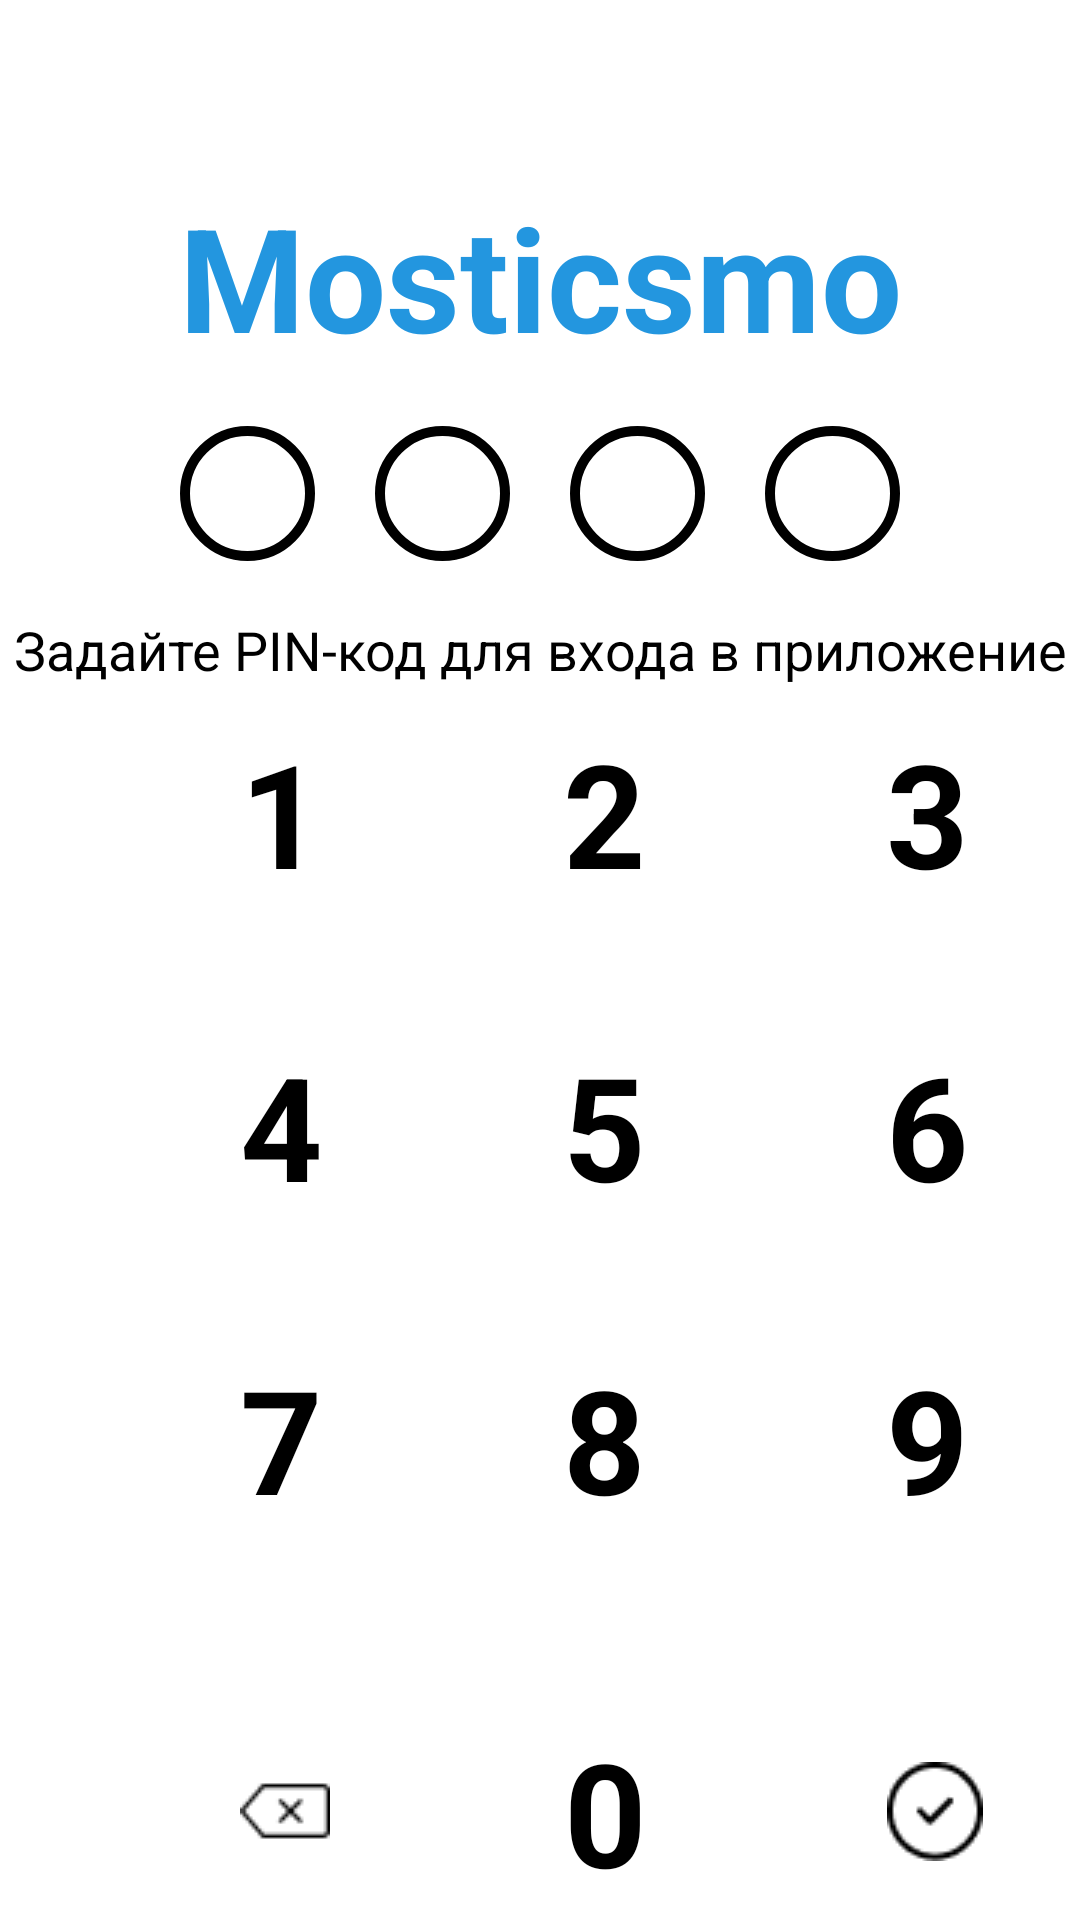

Screen size 1080px×1920px. Icon name, then its center in pixels as (x,y):
clearsymbol: (285,1811)
